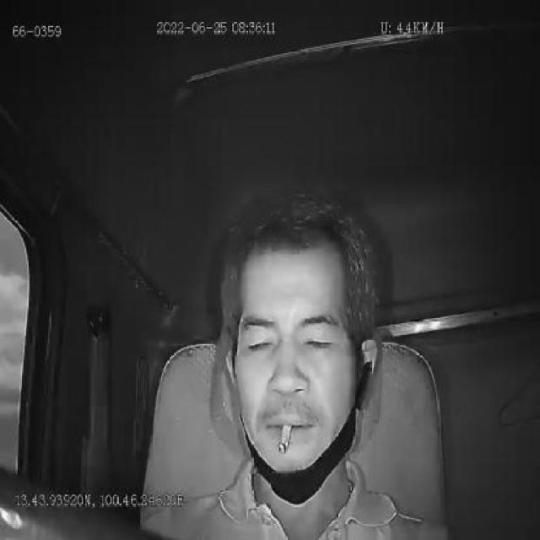smoking: (278, 424, 293, 452)
